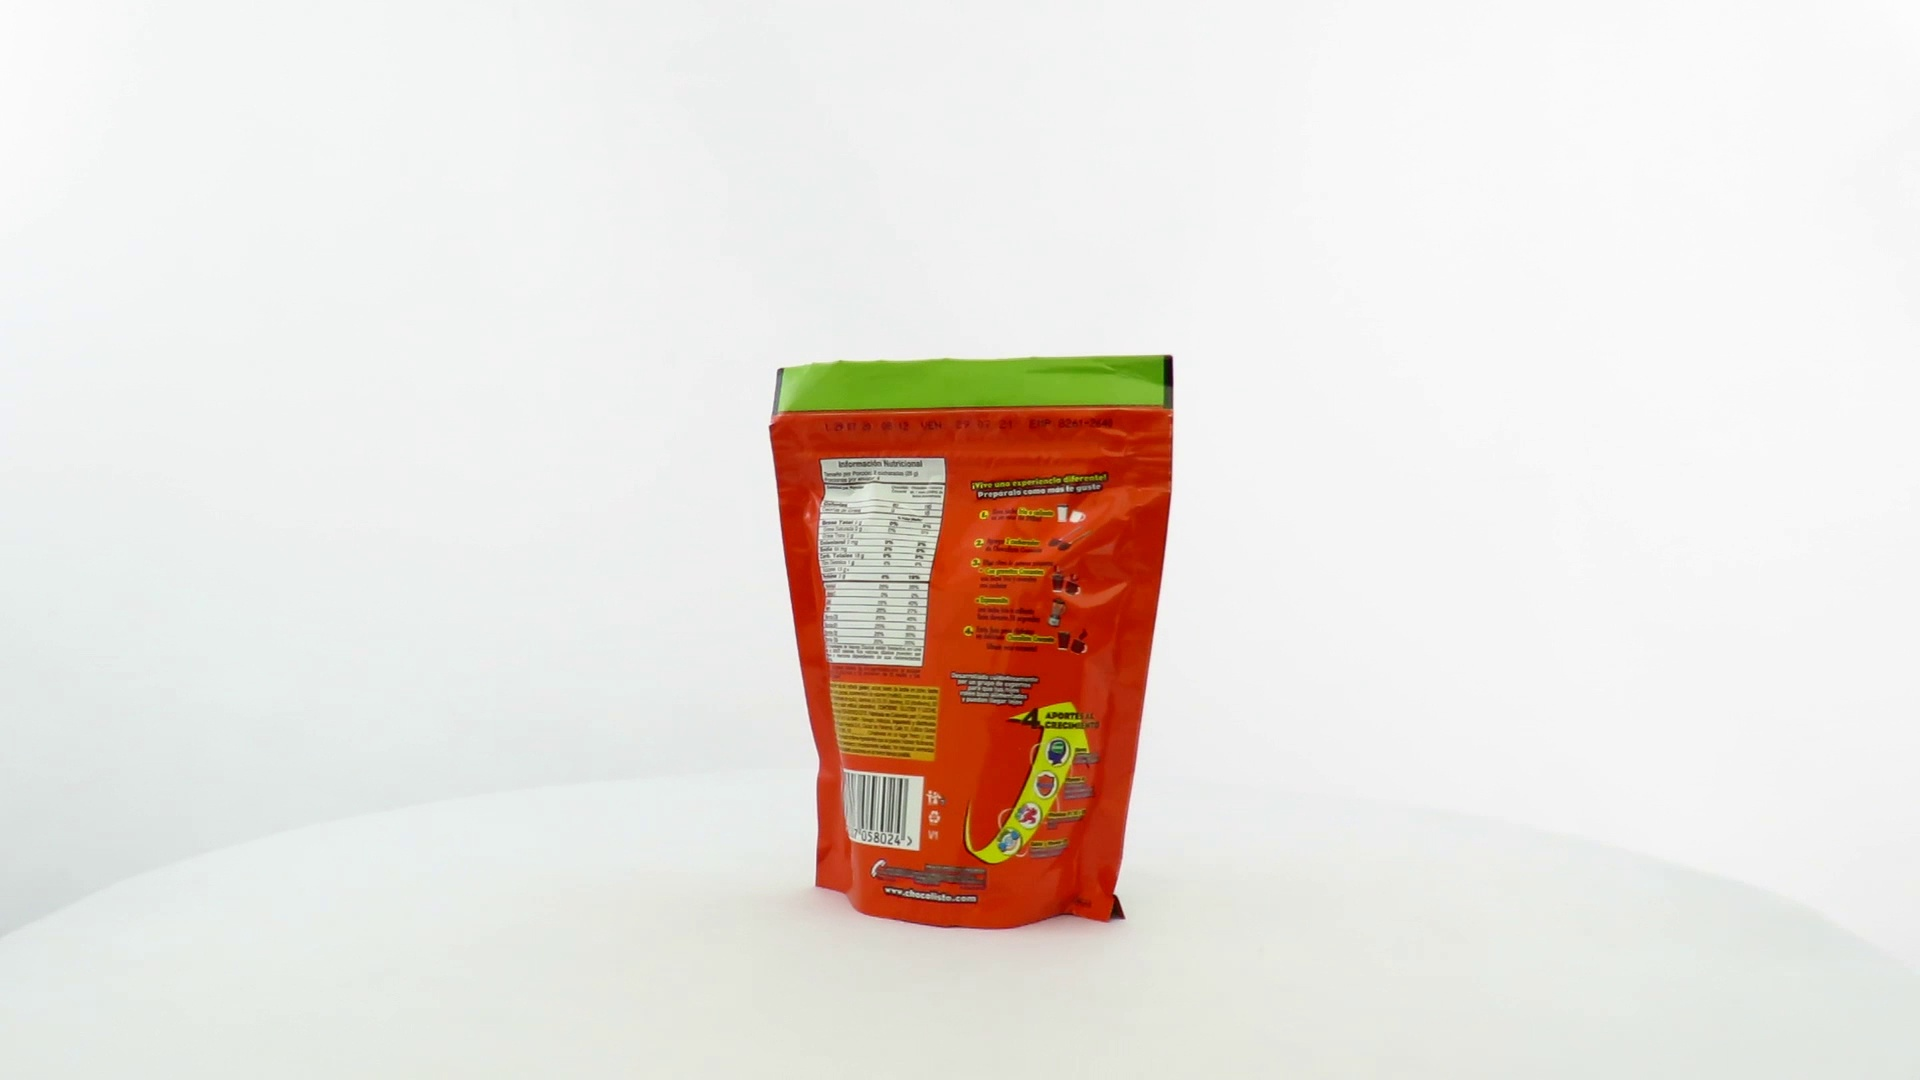COL0170102DYP10000: (764, 349, 1180, 936)
